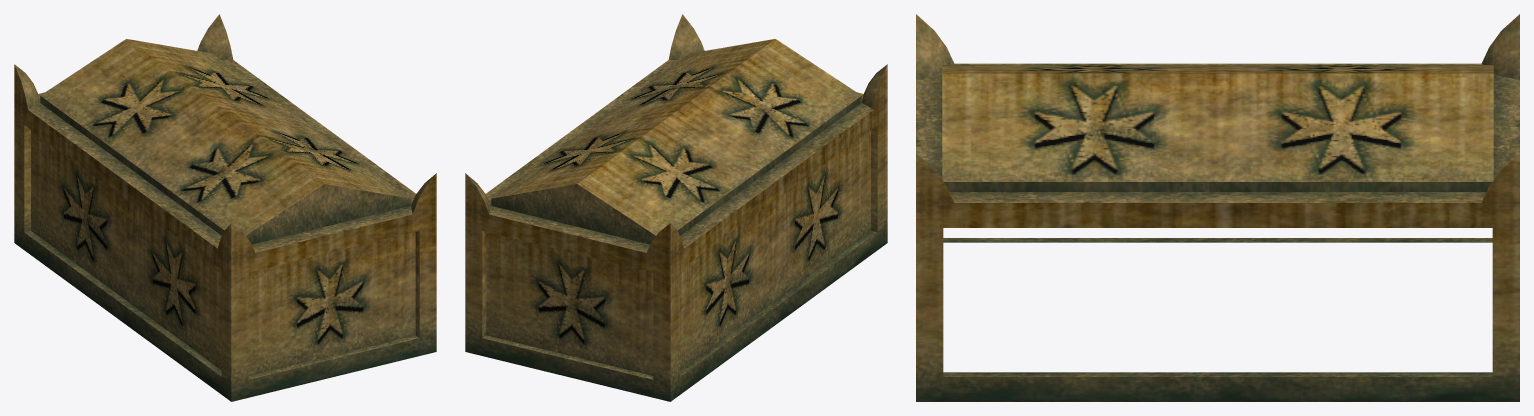
File: Knights_Coffin03.glb
3 views of the same model, side by side, from view 1: azimuth 30°, elevation 25°; view 2: azimuth 150°, elevation 25°; view 3: azimuth 270°, elevation 25° (orthographic). The views are drawn at different scales.
Visible parts, largest first — view 1: KNIGHTS_COFFIN03; view 2: KNIGHTS_COFFIN03; view 3: KNIGHTS_COFFIN03.
Part boxes in pixels (<box>): KNIGHTS_COFFIN03: <box>14,14,436,401</box>; KNIGHTS_COFFIN03: <box>465,14,887,401</box>; KNIGHTS_COFFIN03: <box>916,14,1519,401</box>.
Bounding box in the file's own units: 1.5 × 1.3 × 2.75.
2 materials, 2 textured.
